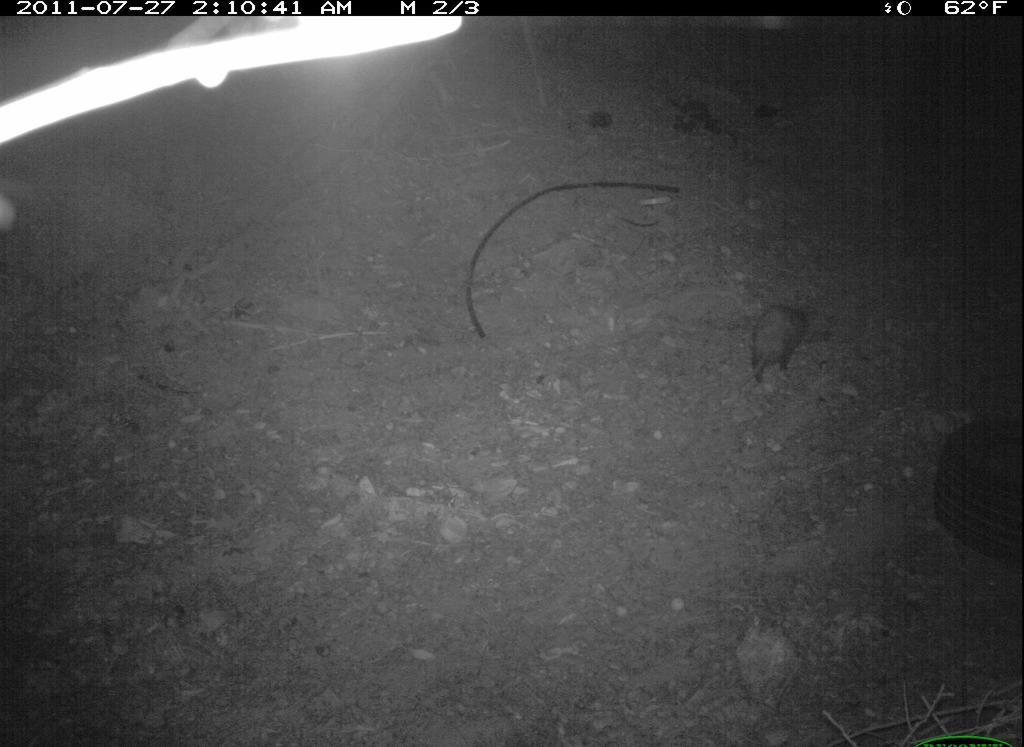opossum: (743, 292, 816, 401)
